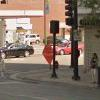Traffic light: (57, 1, 87, 26)
